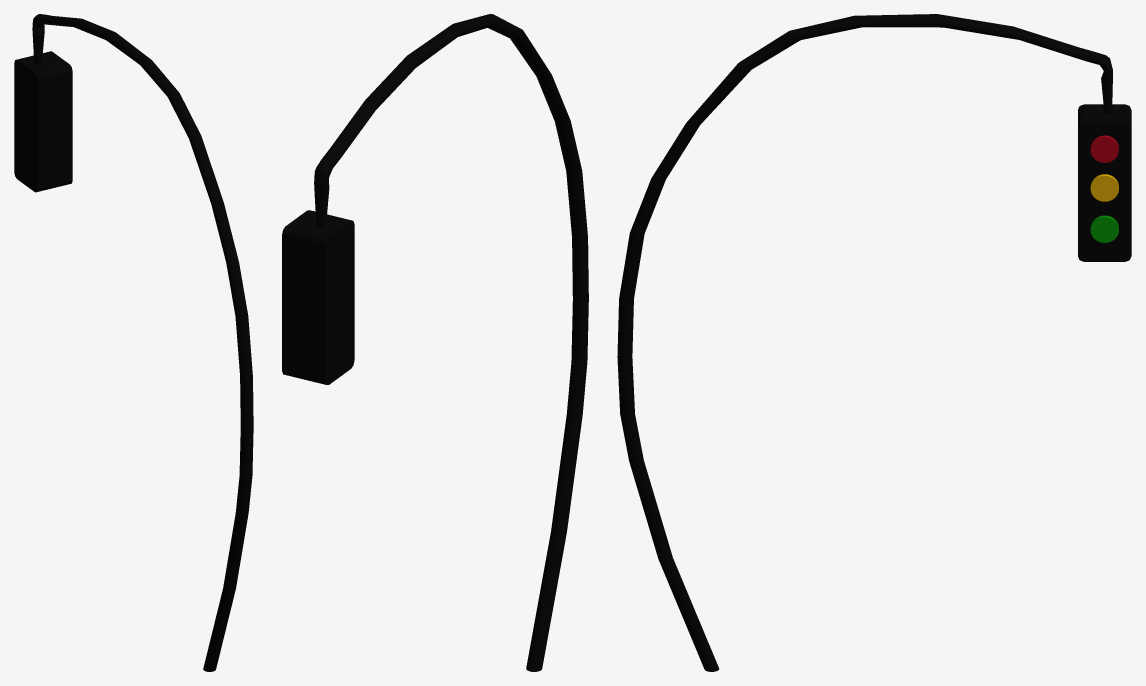
Rendered from traffic_light_3D.glb.
The picture shows the model from 3 angles, left to right: view 1: azimuth 30°, elevation 25°; view 2: azimuth 150°, elevation 25°; view 3: azimuth 270°, elevation 25°; orthographic projection. The views are drawn at different scales.
Visible parts, largest first — view 1: traffic_light_3D; view 2: traffic_light_3D; view 3: traffic_light_3D.
Part boxes in pixels (<box>): traffic_light_3D: <box>14,14,253,671</box>; traffic_light_3D: <box>282,14,588,671</box>; traffic_light_3D: <box>617,14,1131,671</box>.
Bounding box in the file's own units: 1.03 × 14.63 × 10.42.
1 material, 1 textured.
